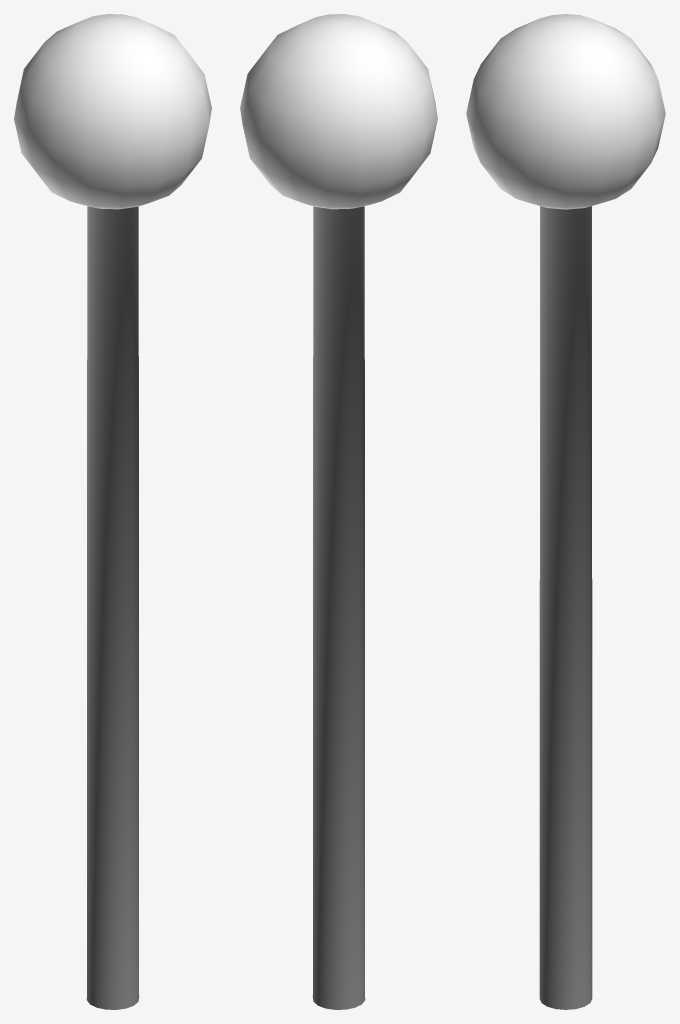
Rendered from NeedleTree.fbx.
3 renders of one model, left to right at view 1: azimuth 30°, elevation 25°; view 2: azimuth 150°, elevation 25°; view 3: azimuth 270°, elevation 25°, orthographic.
Parts seen in each view (by area): view 1: Cylinder.001; view 2: Cylinder.001; view 3: Cylinder.001.
Part boxes in pixels (<box>): Cylinder.001: <box>14,14,211,1009</box>; Cylinder.001: <box>240,14,437,1009</box>; Cylinder.001: <box>466,14,665,1009</box>.
Bounding box in the file's own units: 2 × 10.78 × 2.
